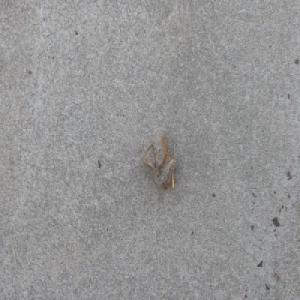Rock: (140, 128, 176, 192)
